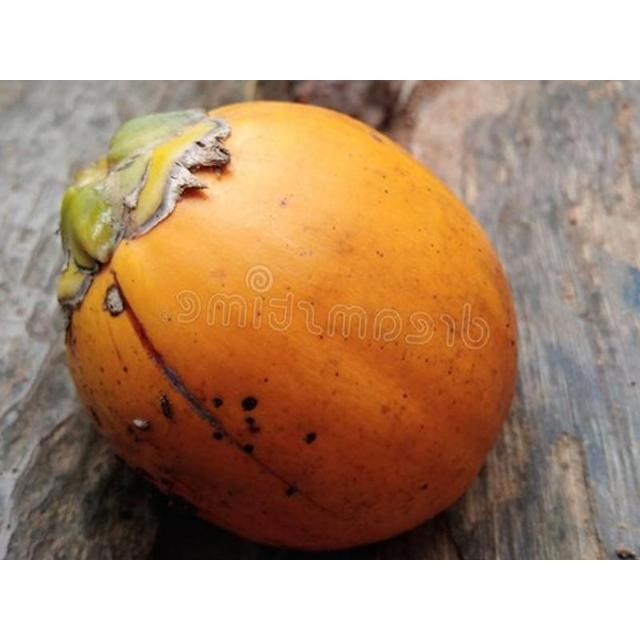good: (55, 102, 519, 556)
